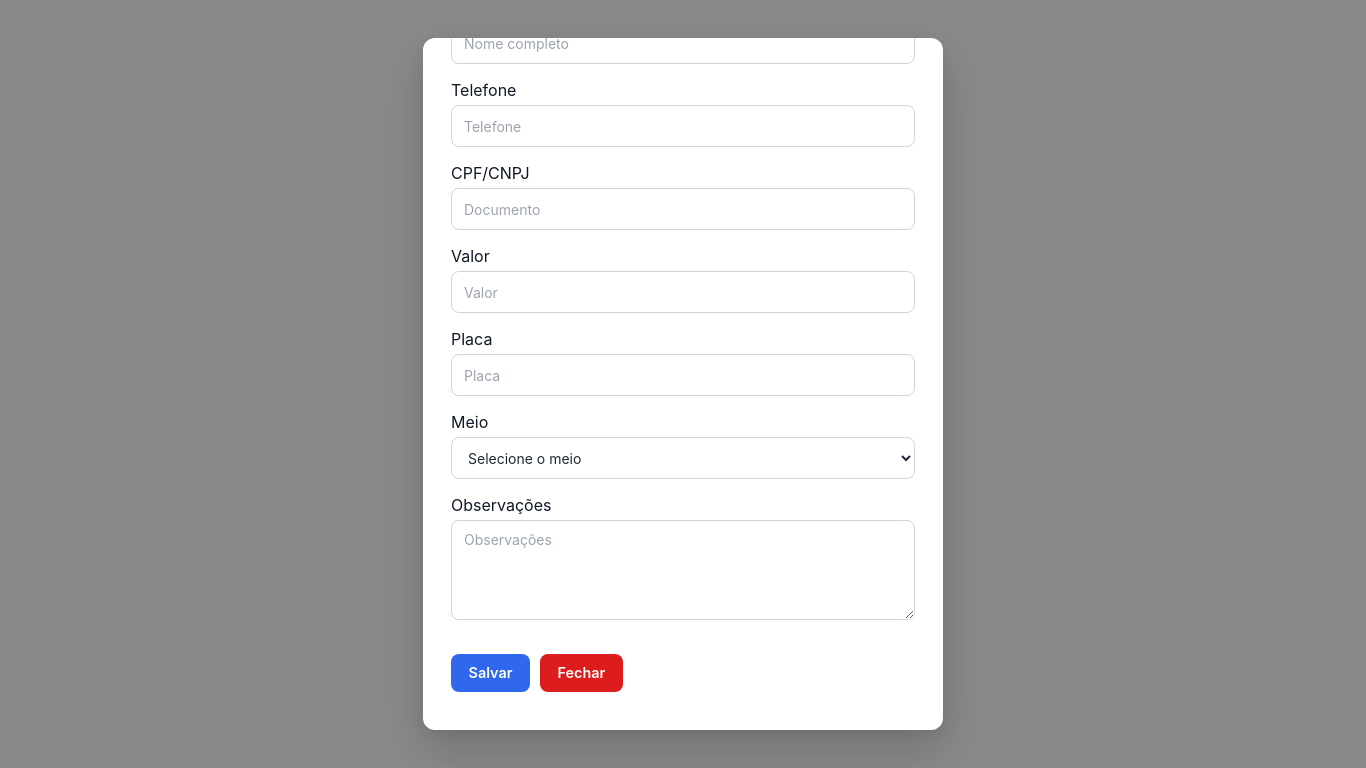
it: EntityForm › não envia e mostra erro em cada campo obrigatório vazio
(page scrolled)
Click the button "Salvar" at [490, 673], box top-left (451, 654), bottom-right (530, 692)
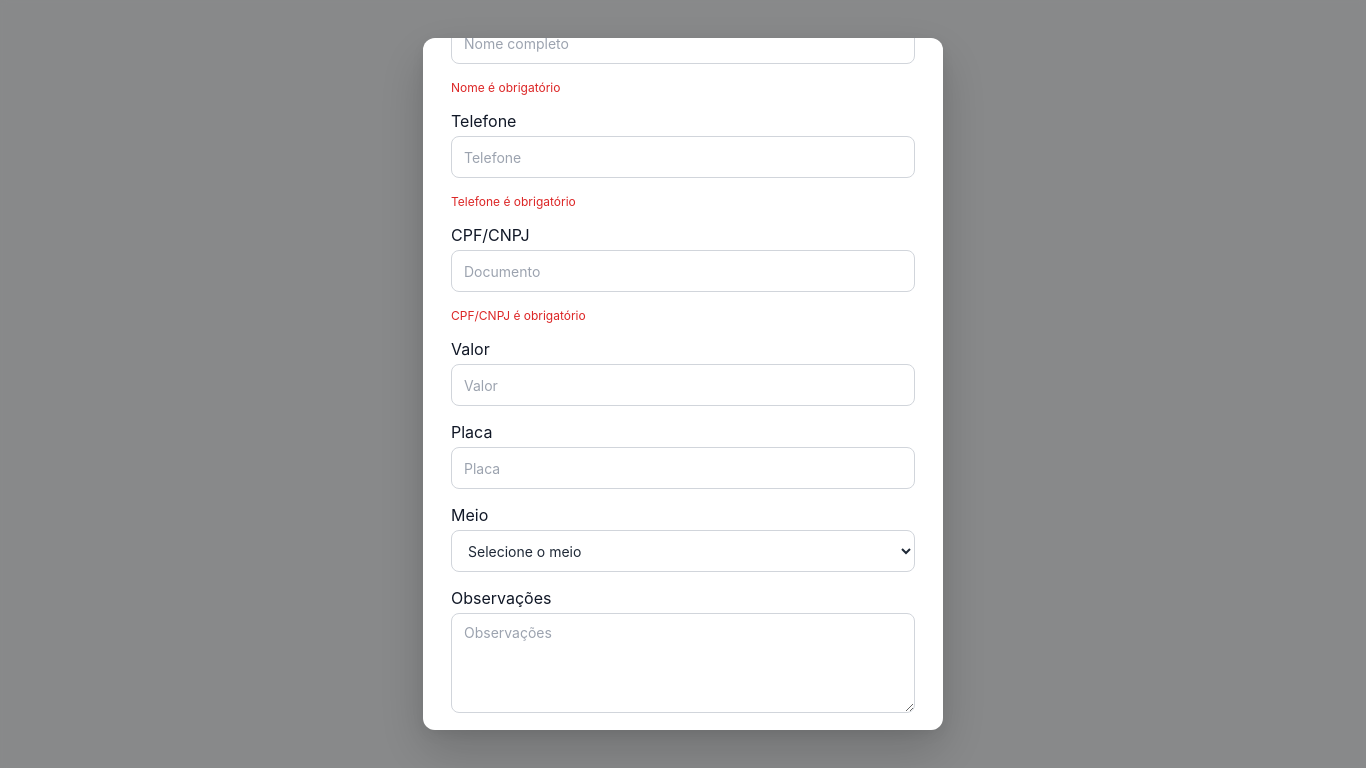
Check: the text "Nome é obrigatório" is shown, box top-left (451, 80), bottom-right (560, 95)
Check: the text "Telefone é obrigatório" is shown, box top-left (451, 194), bottom-right (576, 209)
Check: the text "CPF/CNPJ é obrigatório" is shown, box top-left (451, 308), bottom-right (586, 323)
